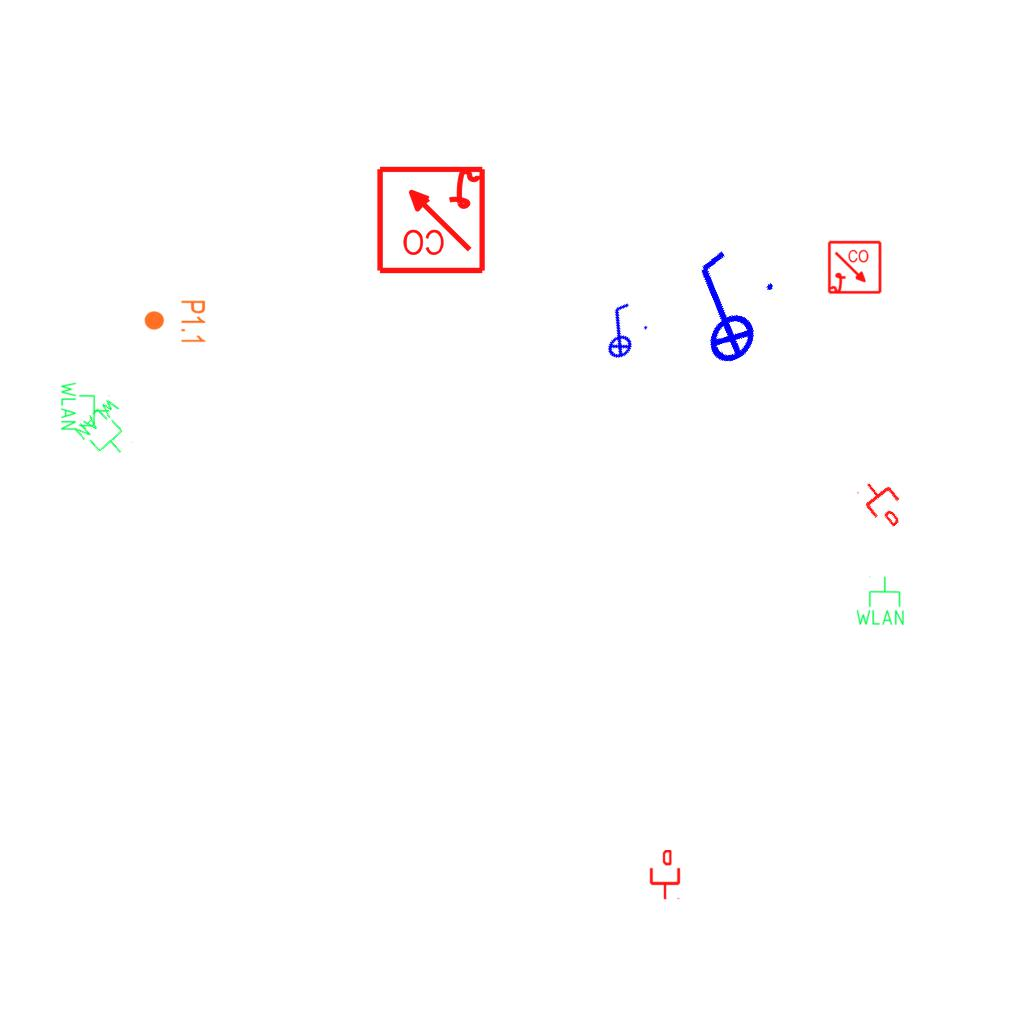Ausschalter_beleuchtet: (649, 235, 793, 383), (582, 294, 656, 368)
Datenanschluss_einfach: (854, 472, 912, 534), (648, 850, 682, 900)
Downlight_LED_Einbauleuchten_Flur: (143, 299, 207, 345)
ROA_Rauchmelder_optisch_mit_Signalgeber_(Sockelsirene): (374, 162, 487, 275), (827, 240, 883, 296)
WLAN: (71, 394, 145, 468), (854, 575, 906, 627), (59, 380, 111, 432)
